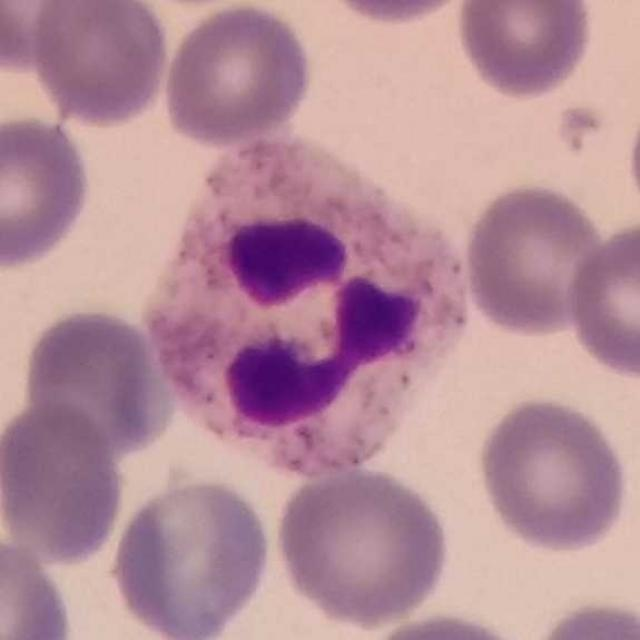Neutrophil: (132, 129, 486, 490)
RBC: (271, 463, 454, 629), (105, 473, 277, 640), (472, 392, 633, 556), (19, 303, 177, 462), (459, 179, 610, 340), (159, 1, 315, 147), (0, 398, 129, 566), (28, 0, 174, 128), (0, 110, 96, 273), (453, 0, 596, 102), (562, 217, 640, 382), (0, 0, 114, 73), (0, 532, 77, 640), (353, 607, 539, 640), (524, 595, 640, 640), (313, 0, 481, 28), (623, 83, 640, 235)
